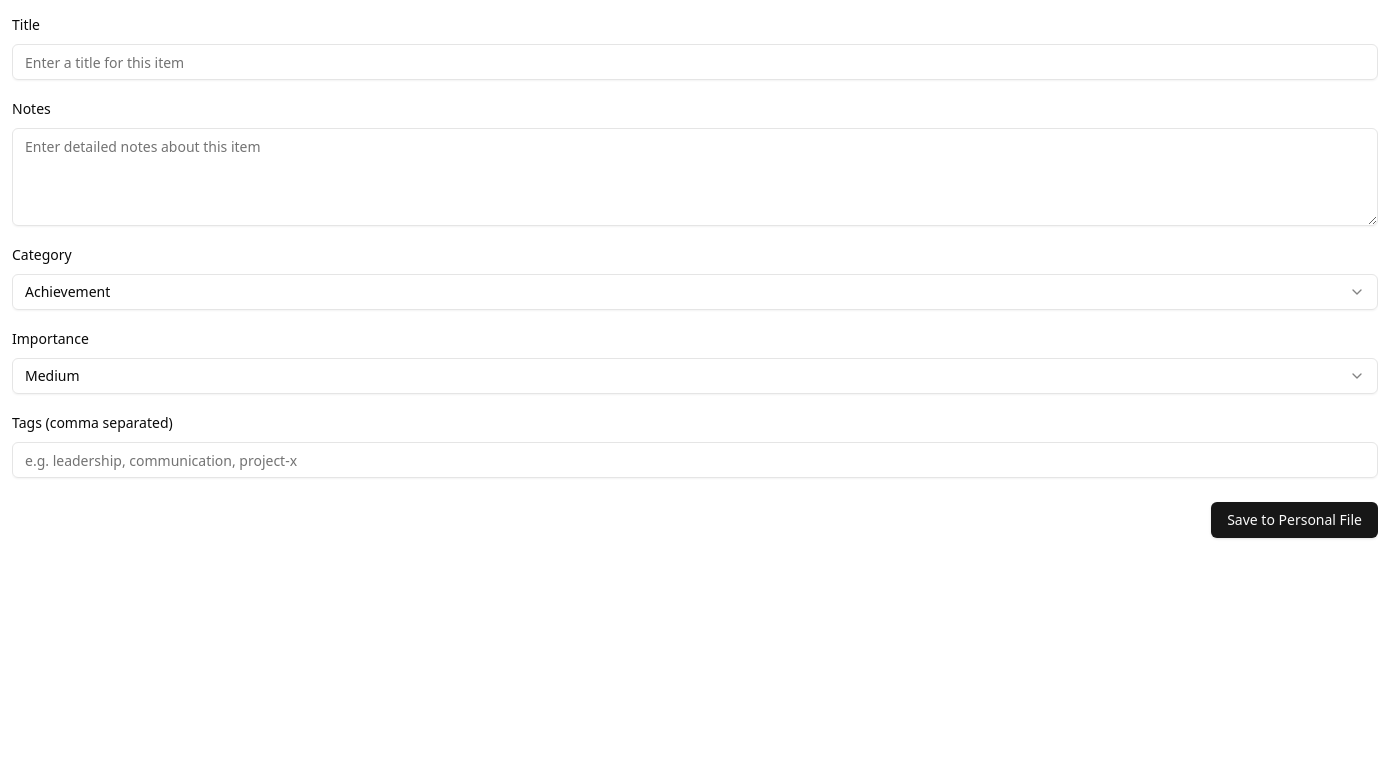
Test: PersonalFileItemForm › clears validation errors when field is edited
The width and height of the screenshot is (1390, 780).
// Trigger validation error
Click the button "Save to Personal File" at (1295, 520), box [1211, 502, 1378, 538]
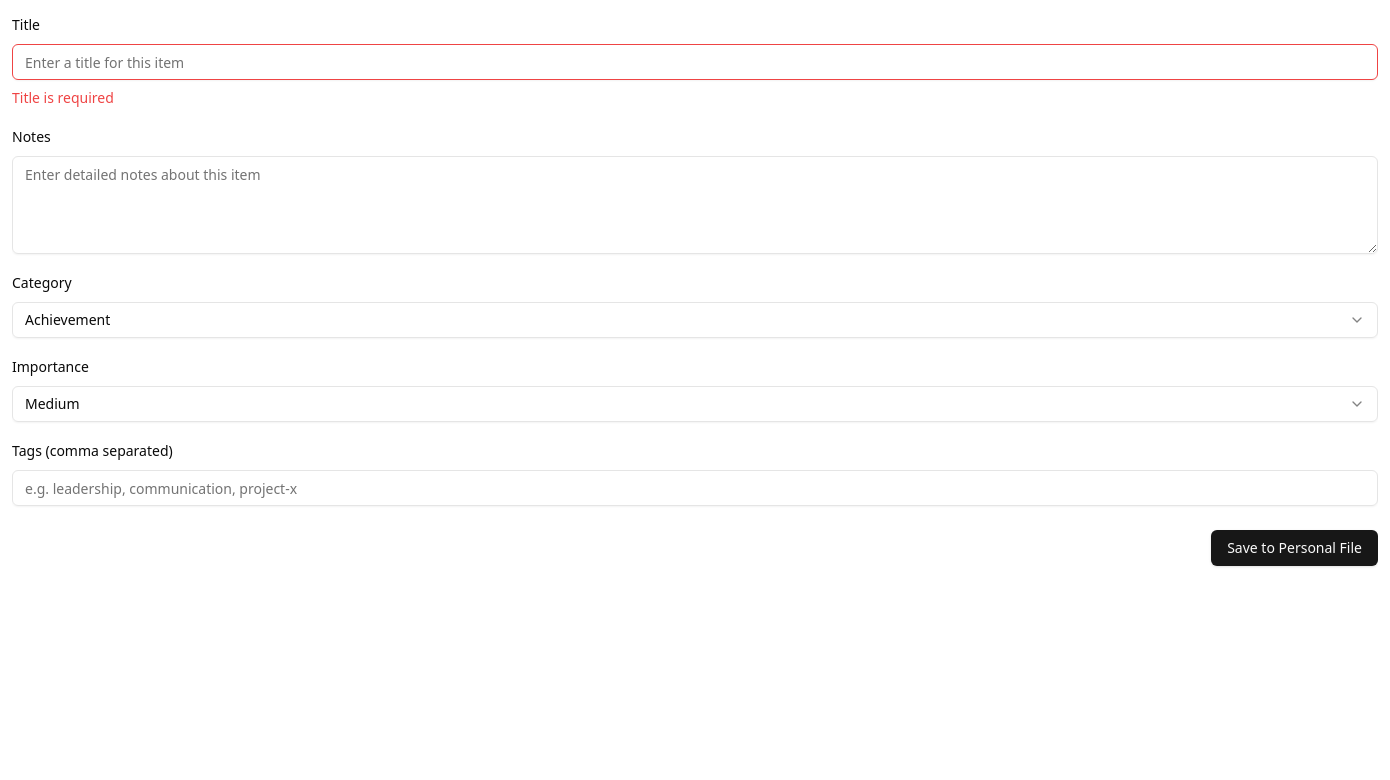
Result: the text "Title is required" is shown at [12, 88, 114, 107]
// Edit the field to clear error
Type "New Title" into the field labelled "Title" at (695, 62), box [12, 44, 1378, 80]
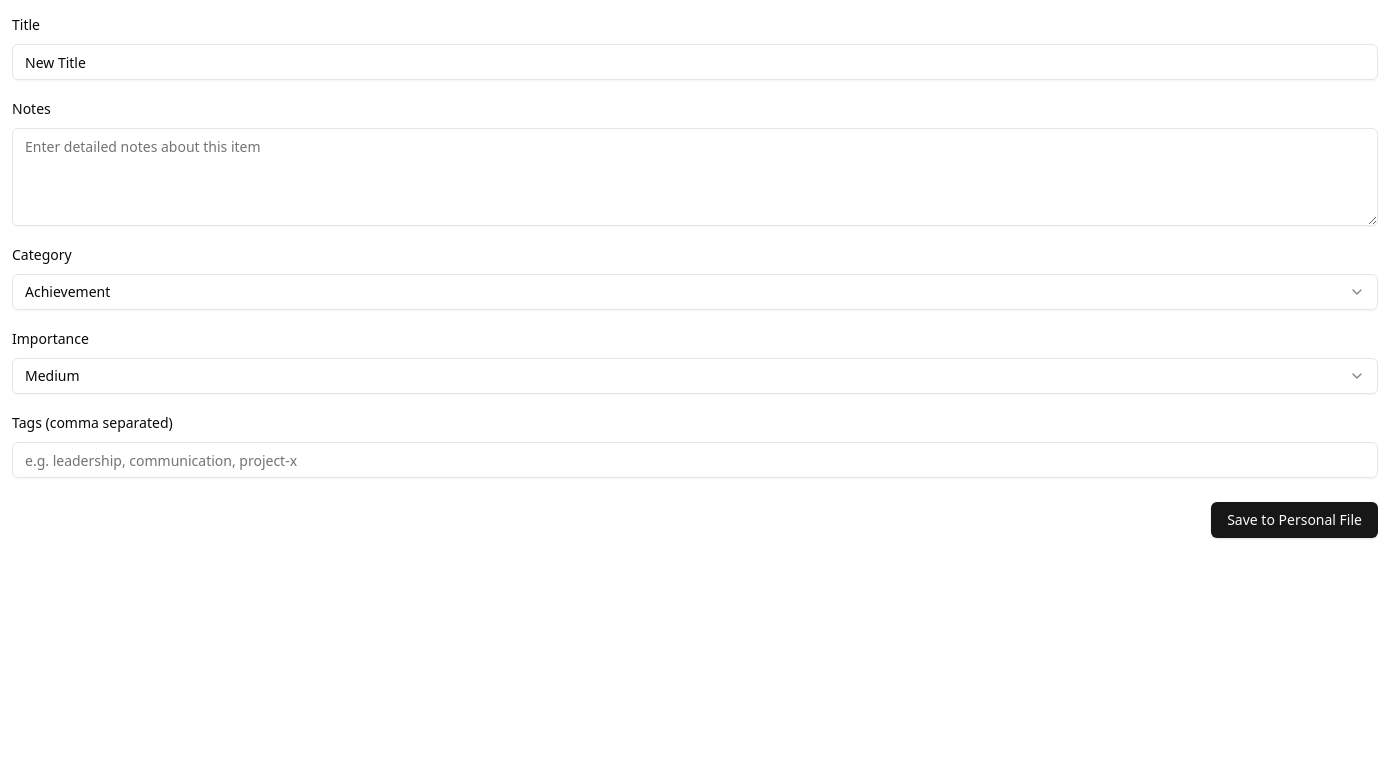
Result: the text "Title is required" is gone
